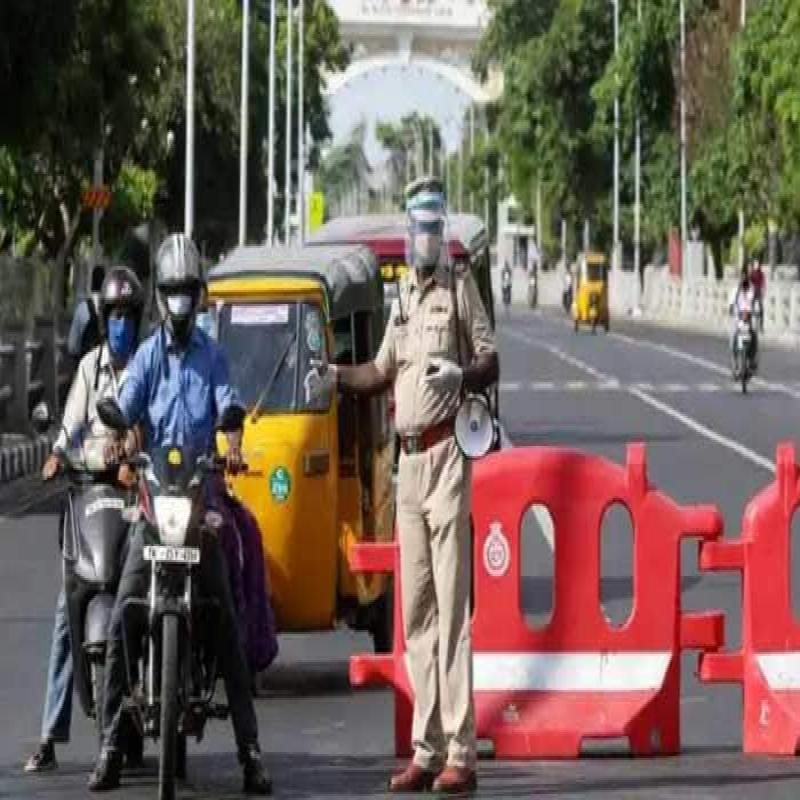auto: (210, 255, 390, 624), (561, 244, 620, 333)
bike: (132, 426, 219, 798), (41, 418, 142, 736), (730, 308, 762, 389)
